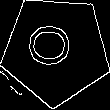O_E: (30, 27, 82, 73)
